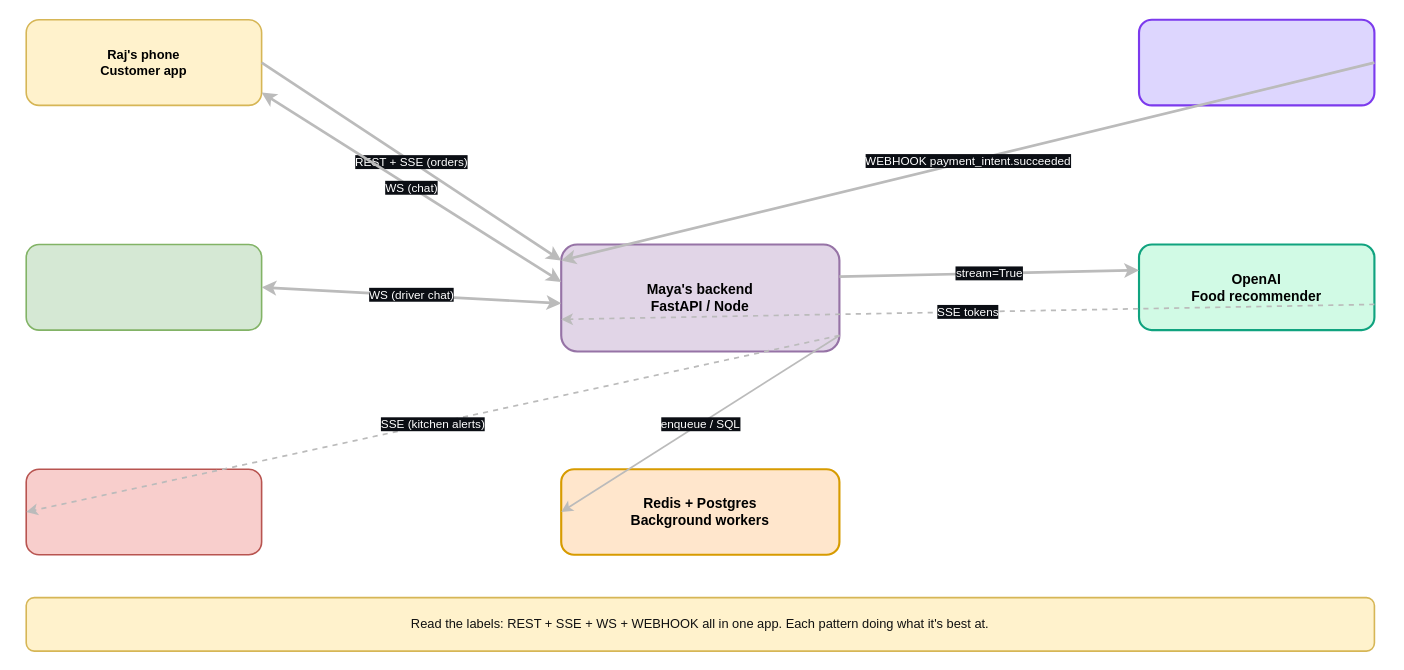
Some shapes in this 1404 by 670 pixel diagram are drawn without their labels. Here are the shapes that lost their labels. From the top down, the box of each, then its label:
(1137, 18, 1375, 106): Stripe Payments
(25, 243, 262, 330): Sam's phone Driver app
(25, 468, 262, 555): Priya's tablet Kitchen
